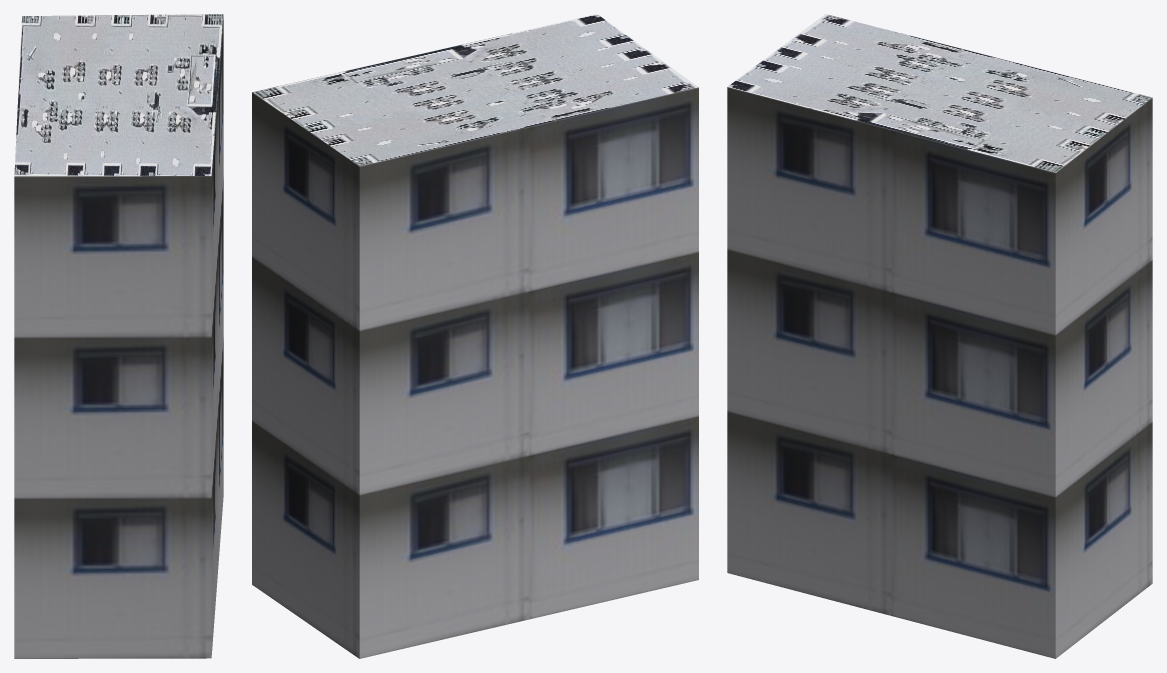
Rendered from ResTex__3894.fbx.
The picture shows the model from 3 angles, left to right: view 1: azimuth 30°, elevation 25°; view 2: azimuth 150°, elevation 25°; view 3: azimuth 270°, elevation 25°; orthographic projection. The views are drawn at different scales.
Parts seen in each view (by area): view 1: CityEngineMaterial_9_m, CityEngineMaterial_4_m; view 2: CityEngineMaterial_9_m, CityEngineMaterial_4_m; view 3: CityEngineMaterial_9_m, CityEngineMaterial_4_m.
Part boxes in pixels (bbox=[...]): CityEngineMaterial_9_m: bbox=[14, 15, 223, 658]; CityEngineMaterial_4_m: bbox=[14, 14, 223, 176]; CityEngineMaterial_9_m: bbox=[252, 87, 698, 658]; CityEngineMaterial_4_m: bbox=[252, 14, 698, 166]; CityEngineMaterial_9_m: bbox=[727, 87, 1152, 658]; CityEngineMaterial_4_m: bbox=[727, 14, 1152, 172].
Size of the model in its own units: 6.31 by 9 by 7.14.
Materials: 2 (2 with a texture image).
